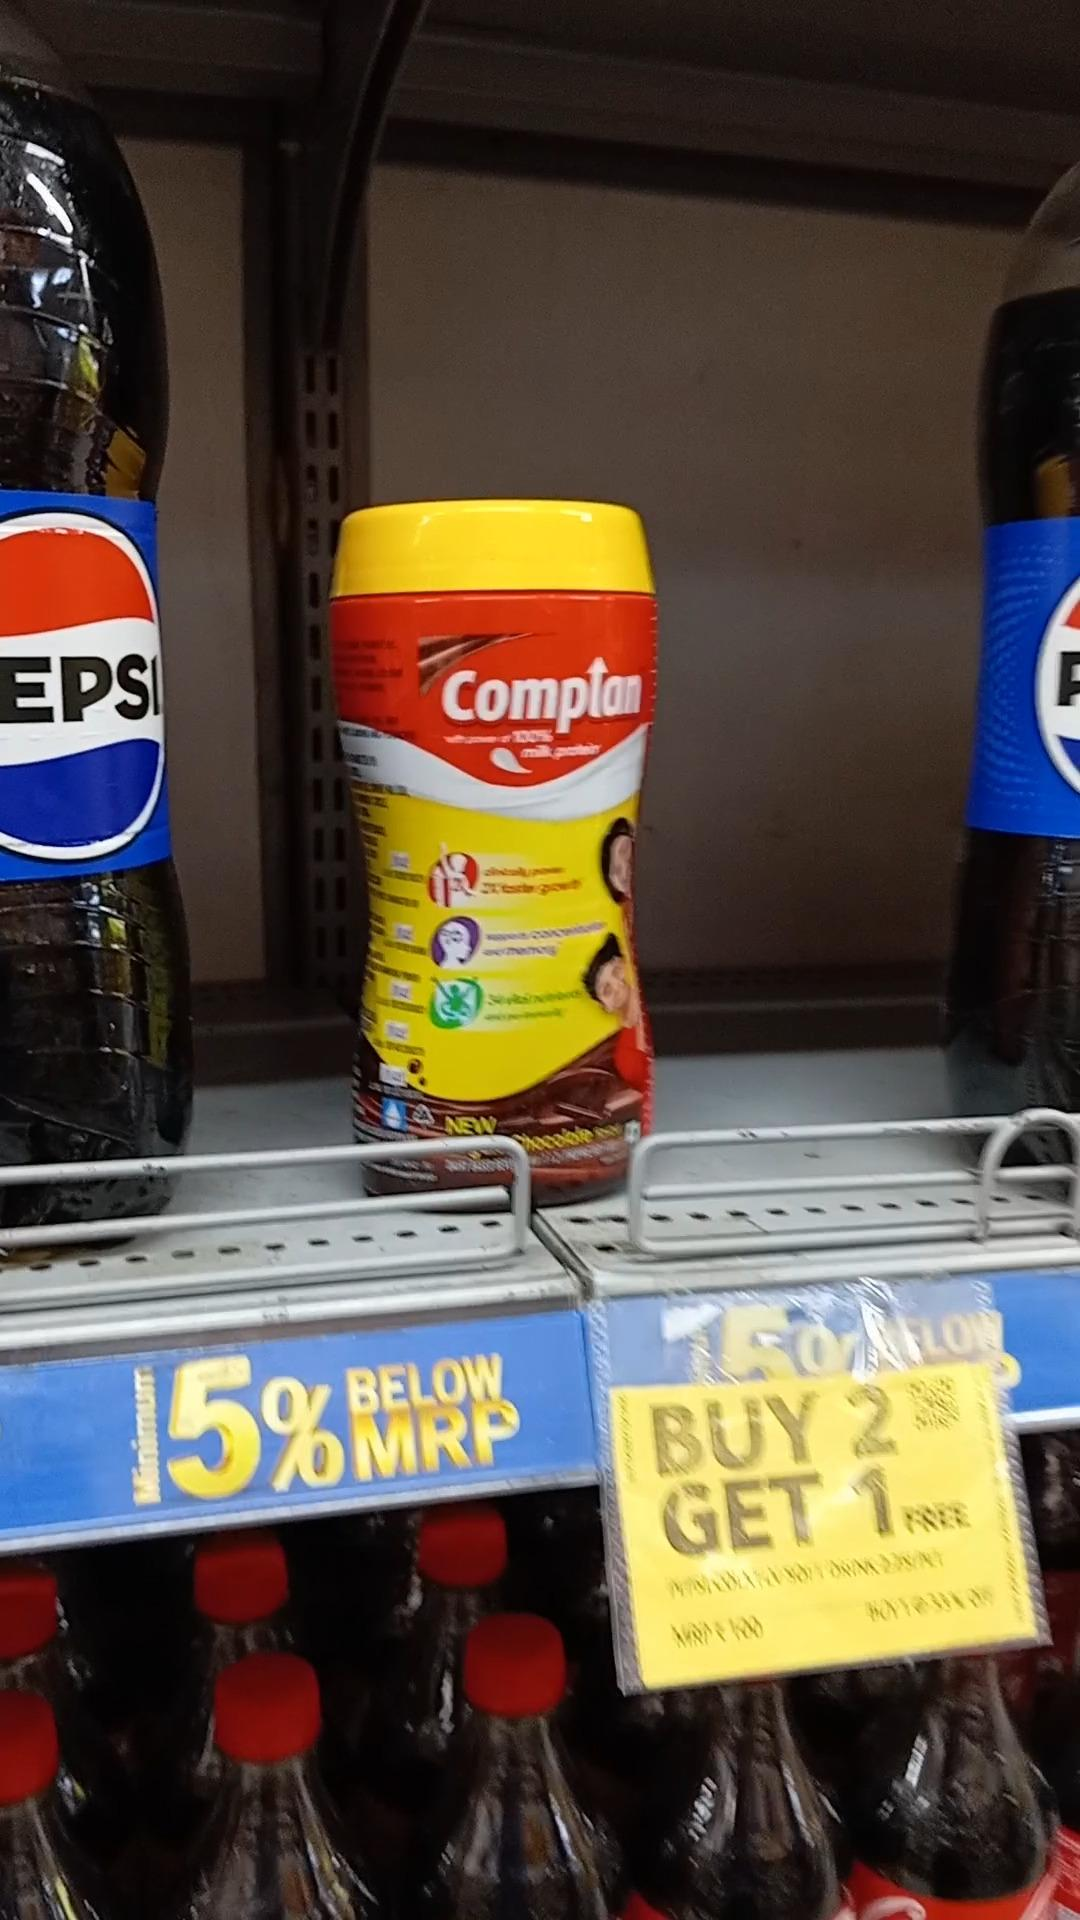COMPLAN_CHOCOLATE_500_GMS_JAR: (347, 500, 650, 1199)
